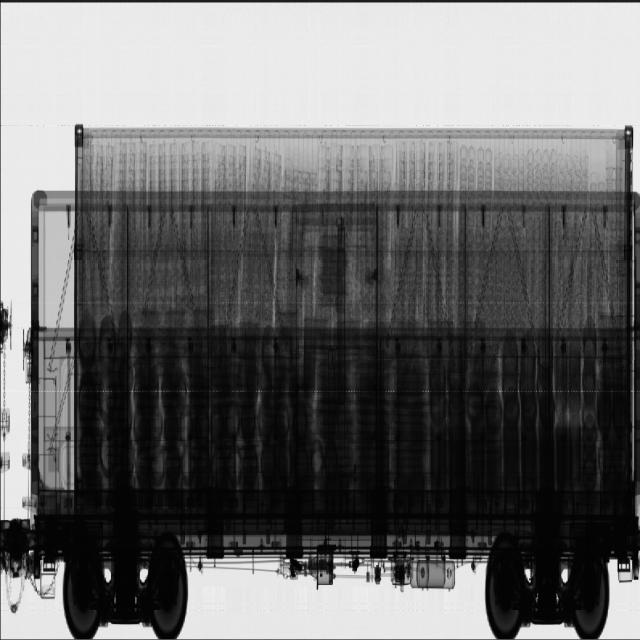shoes: (511, 137, 597, 464)
